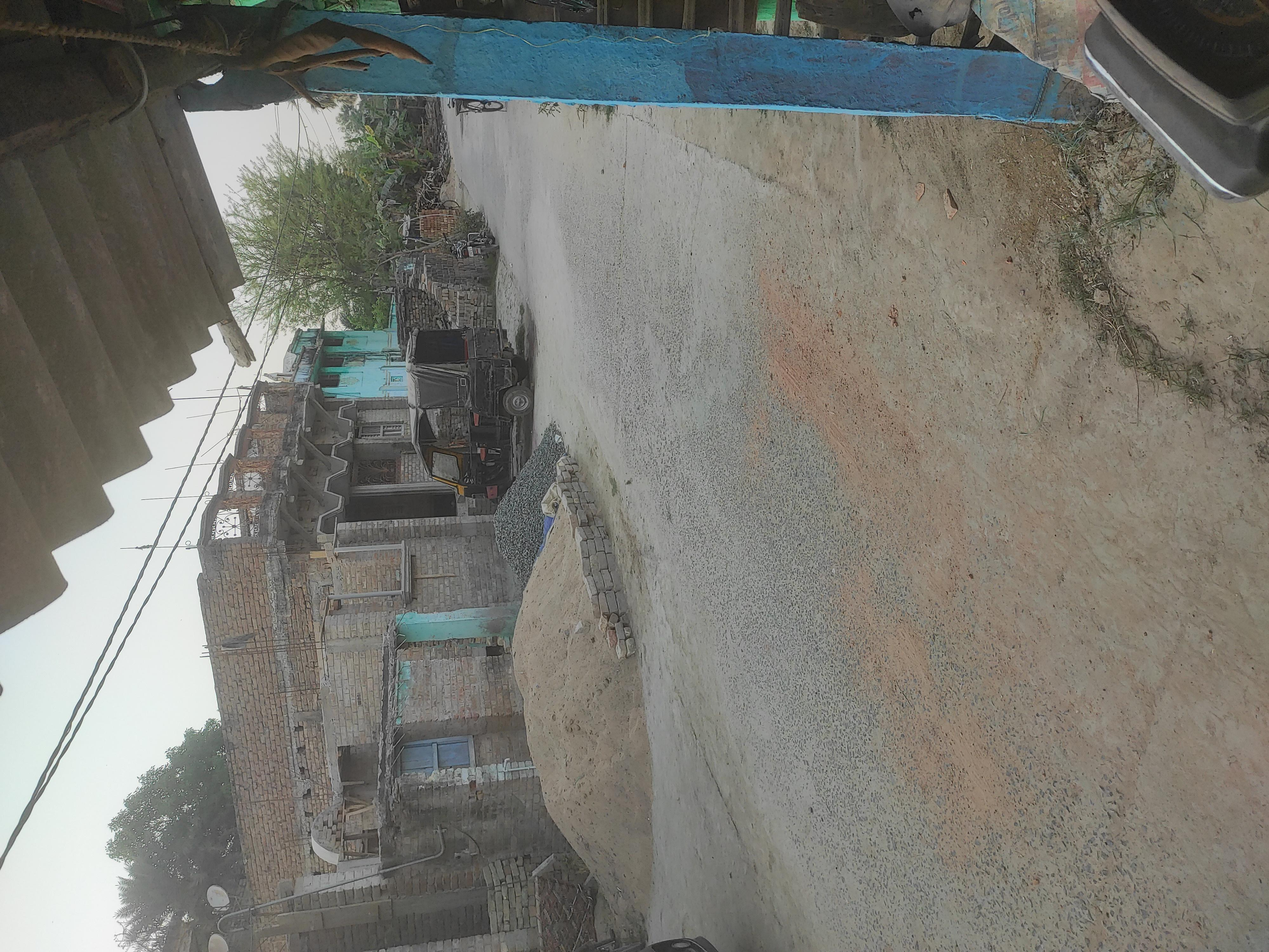Auto: (599, 298, 848, 400)
